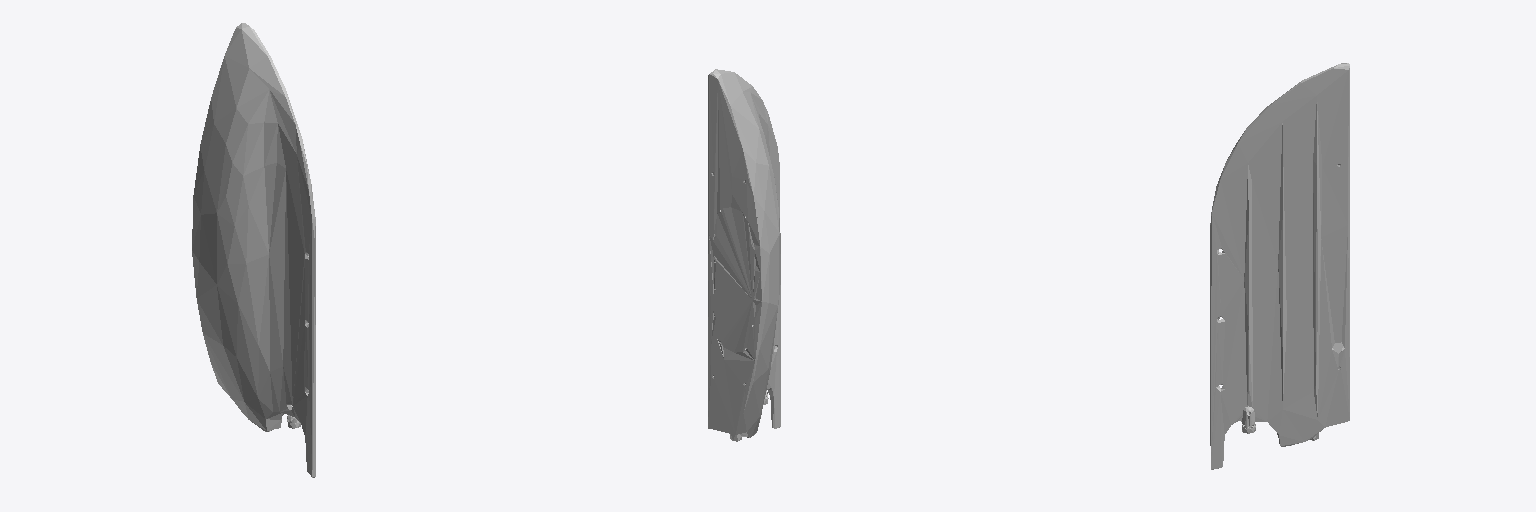
File: right_side.obj
The picture shows the model from 3 angles: view 1: azimuth 30°, elevation 25°; view 2: azimuth 150°, elevation 25°; view 3: azimuth 270°, elevation 25°; orthographic projection.
Parts seen in each view (by area): view 1: Right_side; view 2: Right_side; view 3: Right_side.
Part boxes in pixels (x1,y1,x2,y2): Right_side: (192, 23, 315, 477); Right_side: (708, 69, 780, 441); Right_side: (1210, 63, 1349, 469).
Bounding box in the file's own units: 0.1714 × 1.14 × 0.359.